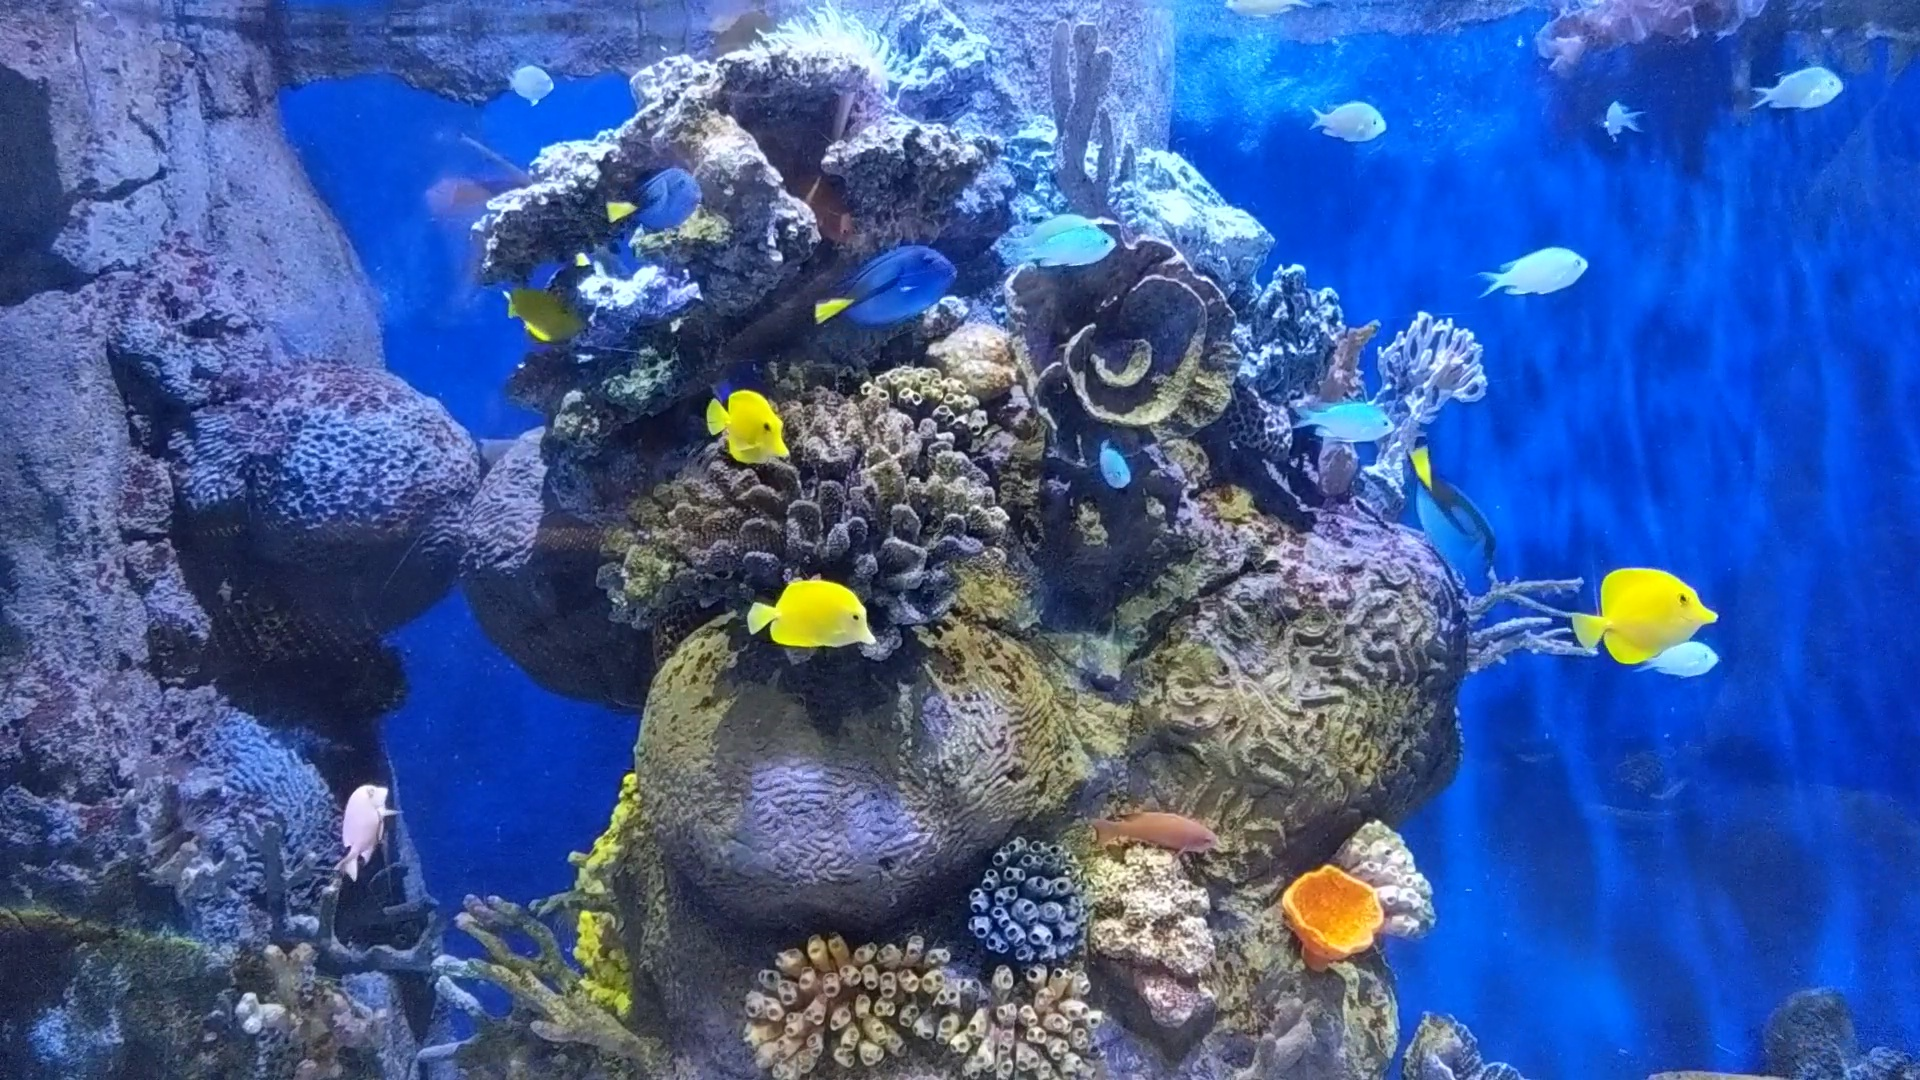blue tang surgeonfish: (1410, 425, 1503, 600), (811, 249, 963, 339), (607, 167, 705, 233)
damselfish: (1477, 247, 1590, 301), (1288, 389, 1399, 443), (1005, 225, 1126, 274), (997, 207, 1096, 258), (1749, 66, 1845, 117), (1652, 628, 1727, 688), (1304, 100, 1393, 145), (1093, 436, 1139, 504), (1600, 87, 1644, 149), (1222, 0, 1311, 26), (502, 65, 559, 105)
saddle butterfly fish: (1564, 556, 1722, 673), (744, 572, 880, 655), (492, 269, 596, 343), (703, 386, 794, 467)
